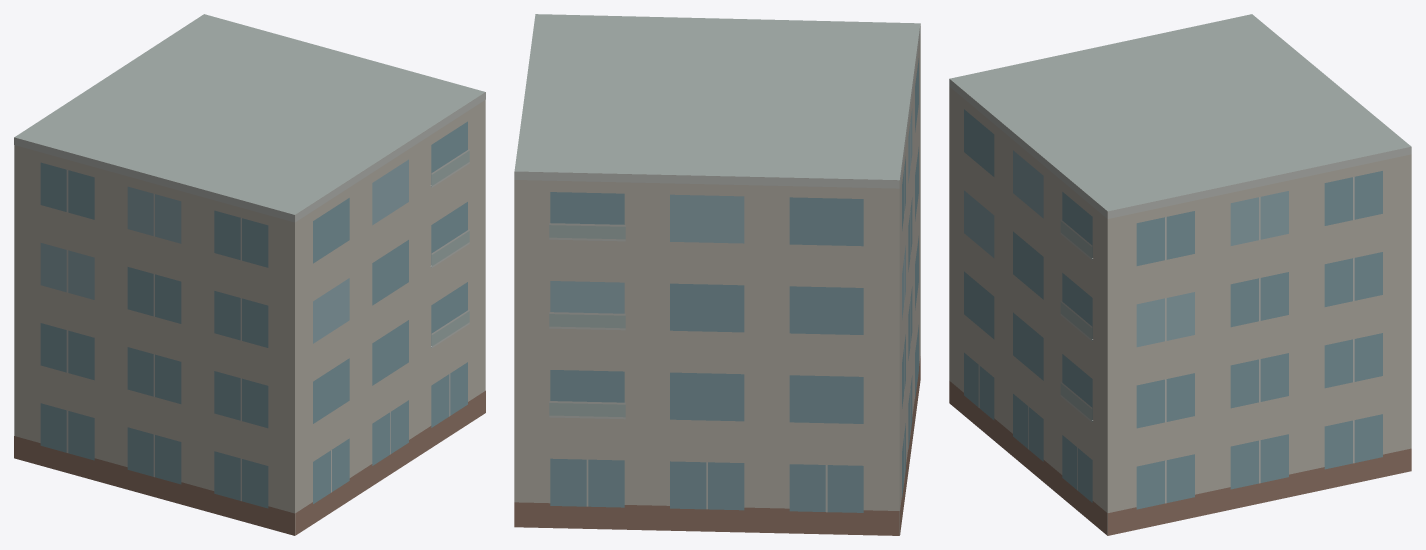
Rendered from survey-upis-32841500.glb.
The picture shows the model from 3 angles, left to right: view 1: azimuth 30°, elevation 25°; view 2: azimuth 150°, elevation 25°; view 3: azimuth 270°, elevation 25°; orthographic projection. The views are drawn at different scales.
Visible parts, largest first — view 1: survey-upis-32841500.tmp; view 2: survey-upis-32841500.tmp; view 3: survey-upis-32841500.tmp.
Boxes of the visible parts, x1=… form: survey-upis-32841500.tmp: x1=14, y1=14, x2=485, y2=535; survey-upis-32841500.tmp: x1=514, y1=14, x2=920, y2=535; survey-upis-32841500.tmp: x1=949, y1=14, x2=1411, y2=535.
Bounding box in the file's own units: 13.48 × 10.32 × 13.34.
